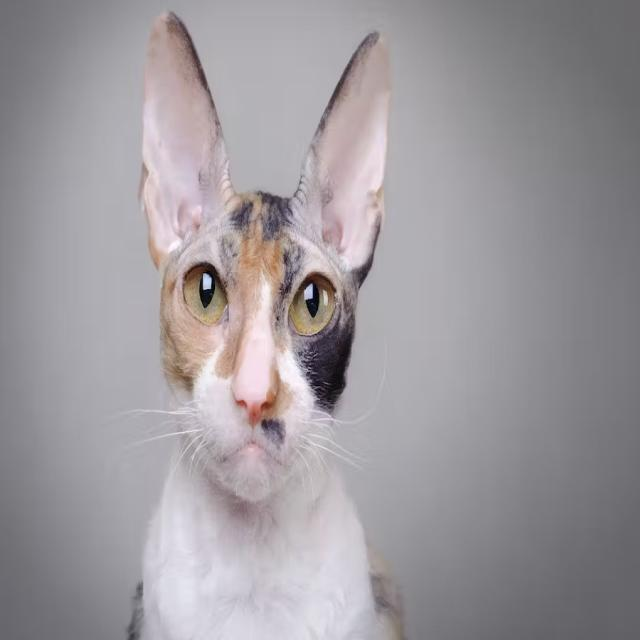Cornish Rex: (120, 3, 419, 640)
